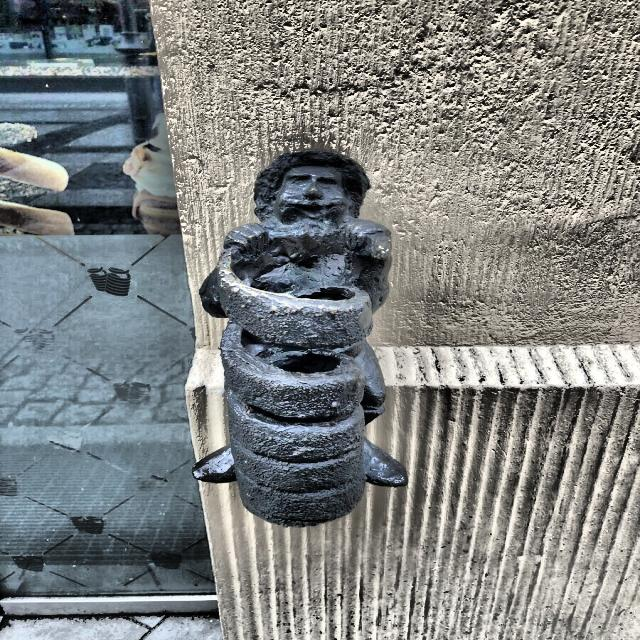Czimnejek: (166, 138, 427, 533)
